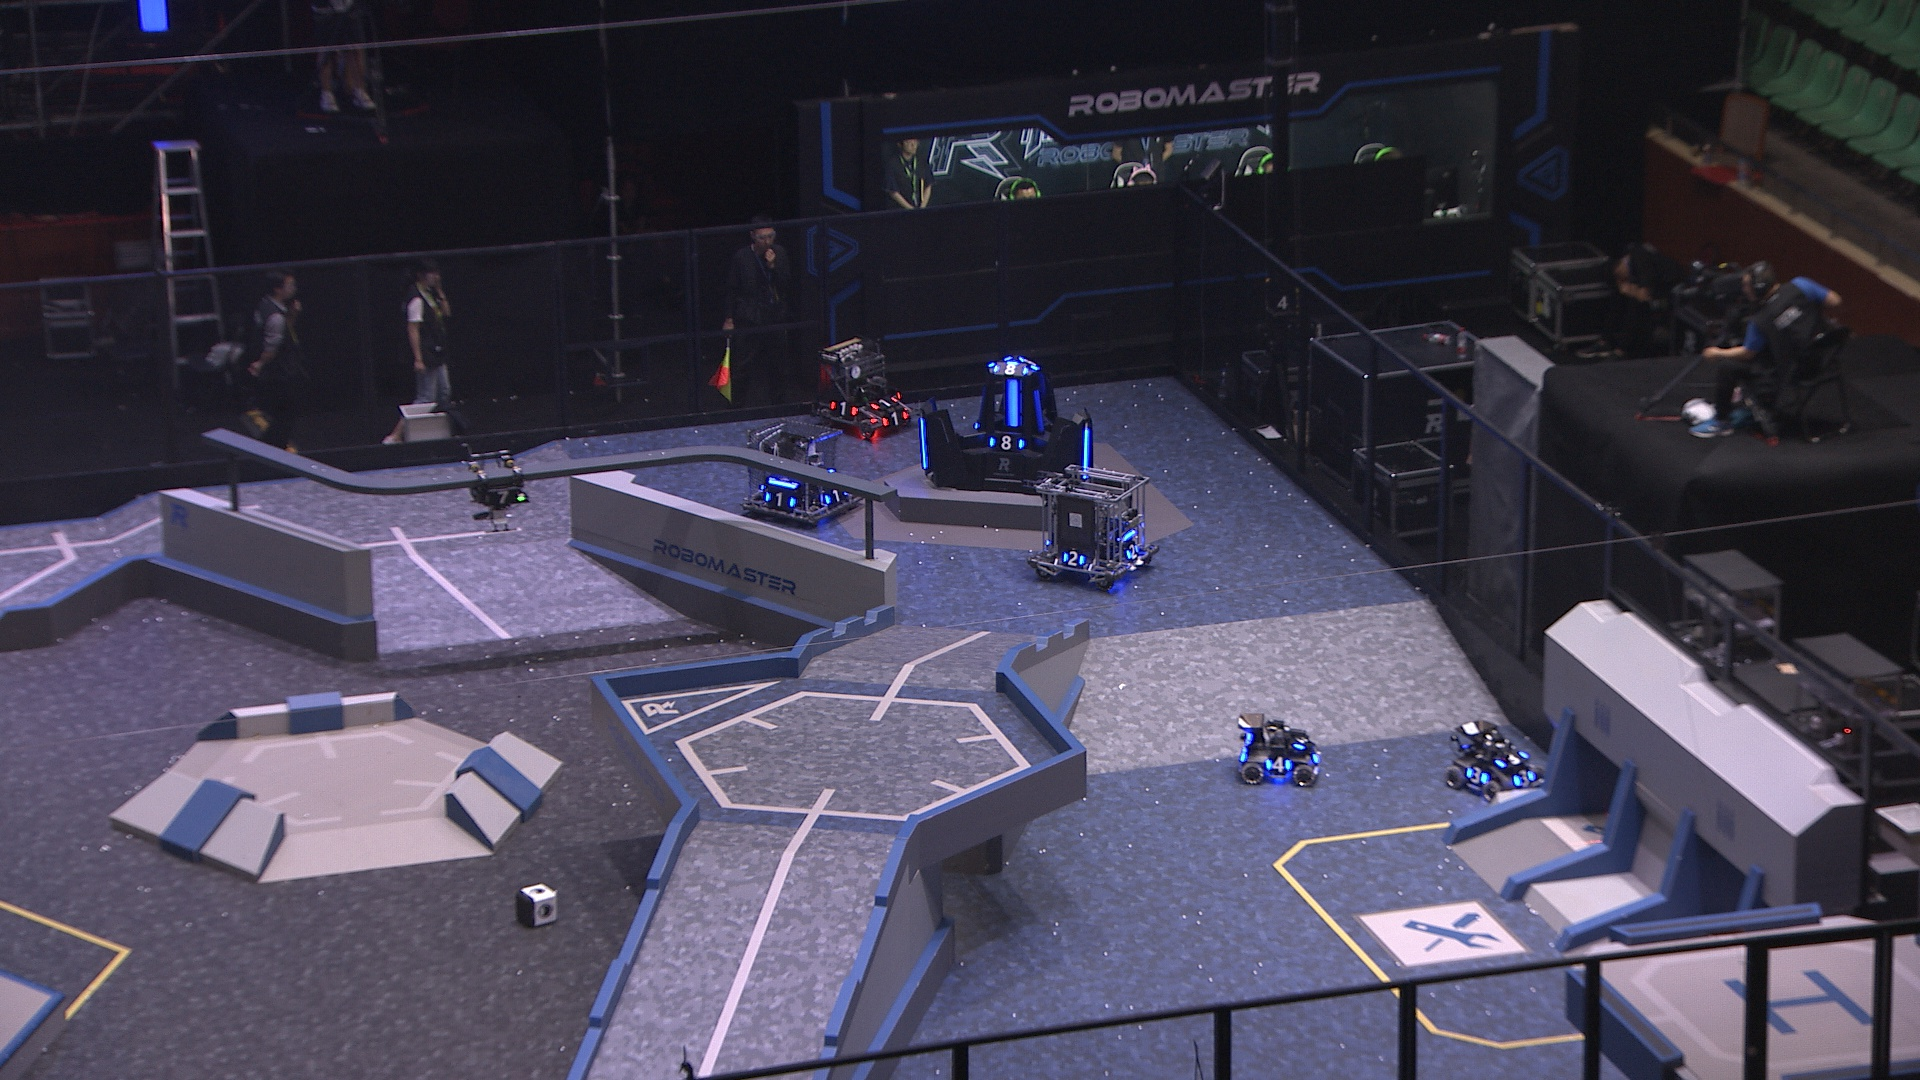armor: (1002, 375, 1025, 436), (1077, 419, 1093, 483), (1029, 389, 1048, 436), (761, 485, 798, 510), (916, 413, 931, 472), (481, 488, 524, 508), (986, 434, 1025, 454), (1491, 749, 1528, 769), (828, 396, 860, 418), (1462, 764, 1490, 789), (818, 487, 847, 510), (870, 392, 899, 413), (882, 406, 909, 429), (992, 361, 1029, 377), (1513, 766, 1538, 789), (1062, 549, 1088, 568), (1262, 754, 1290, 773), (1017, 353, 1038, 373), (1291, 731, 1309, 752), (1305, 744, 1324, 764), (1126, 542, 1143, 560)
base: (913, 349, 1097, 495)
car: (1021, 463, 1163, 593), (737, 418, 866, 527), (812, 338, 915, 443), (1443, 716, 1544, 799), (1232, 709, 1328, 790)
watcher: (460, 442, 531, 533)
